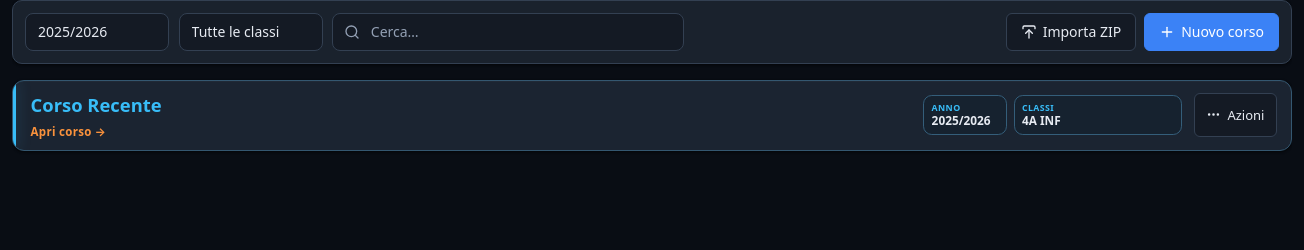
Test: DidatticaView — filters › defaults to the most recent school year, hiding older-year courses
This screenshot has width=1304, height=250.
Expected: the heading "Corso Recente" is shown, left=31, top=92, right=162, bottom=117
Expected: the text "Corso Vecchio" is not shown
Switching to "Tutti gli anni" reveals both.
Select "Tutti gli anni" in the dropdown named "Filtro anno scolastico": [97, 32] box left=25, top=13, right=169, bottom=51
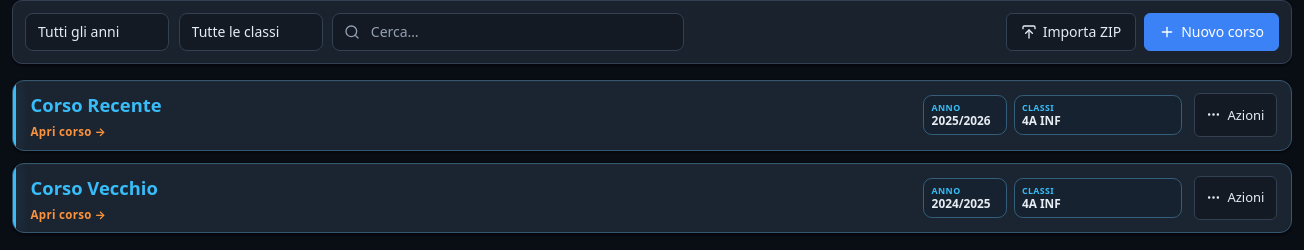
Expected: the heading "Corso Vecchio" is shown, left=31, top=174, right=158, bottom=200
